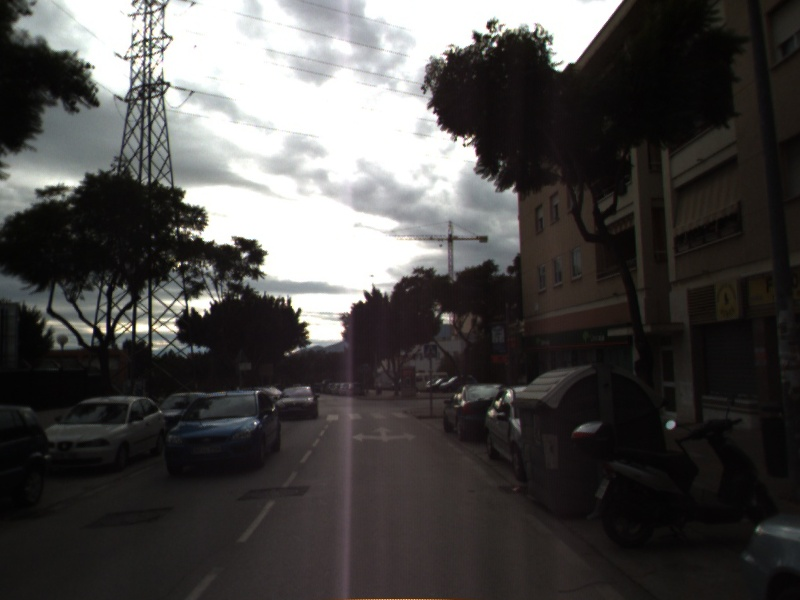STRAIGHT_LEFT_RIGHT: (350, 423, 419, 444)
